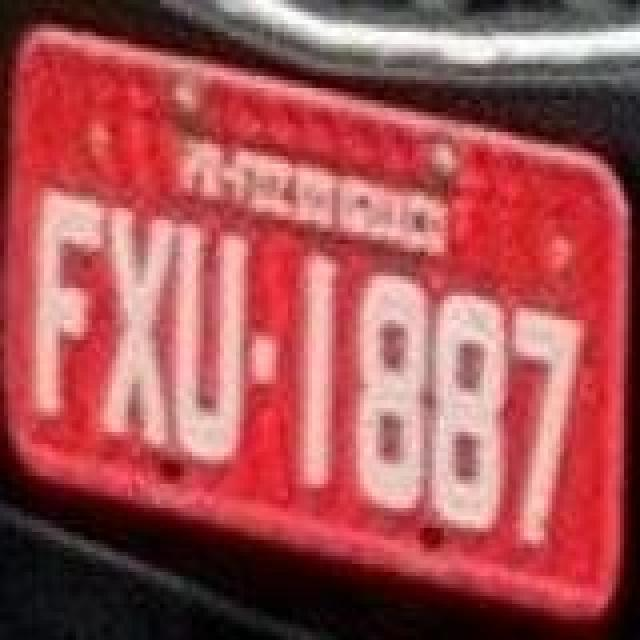1: (298, 244, 342, 492)
7: (514, 296, 590, 552)
8: (430, 290, 514, 542), (352, 270, 432, 514)
F: (34, 184, 110, 424)
U: (172, 222, 252, 466)
X: (102, 206, 178, 450)
